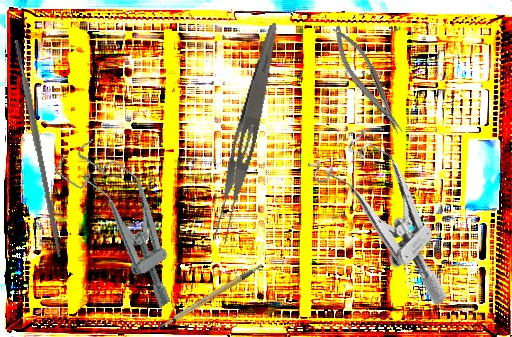Dressing Forceps: (208, 19, 283, 247)
Needle Holder: (325, 20, 409, 142)
Scalpel Handle: (12, 39, 65, 258), (153, 263, 271, 332)
Speculum: (295, 117, 493, 307), (49, 128, 205, 316)
